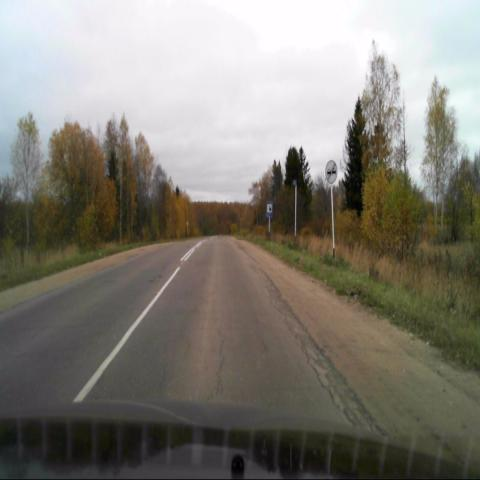3_21: (324, 159, 339, 183)
